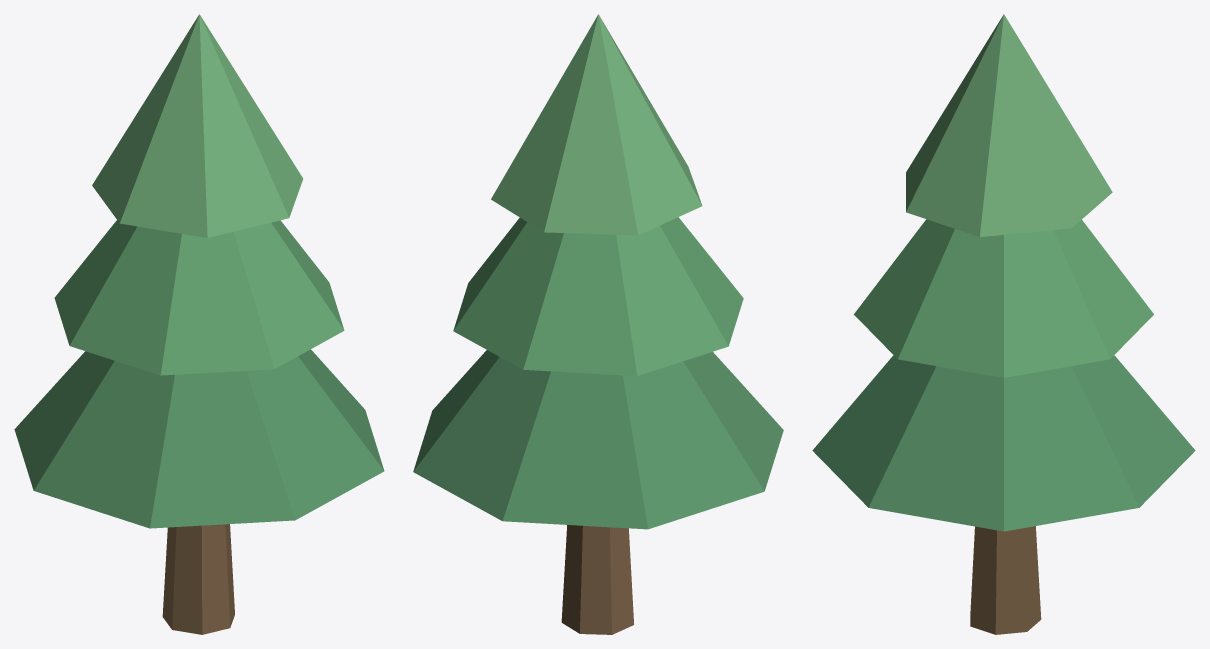
The model's file is TreePine.glb.
3 views of the same model, side by side, from view 1: azimuth 30°, elevation 25°; view 2: azimuth 150°, elevation 25°; view 3: azimuth 270°, elevation 25° (orthographic).
Parts seen in each view (by area): view 1: TreePine; view 2: TreePine; view 3: TreePine.
Part boxes in pixels (x1,y1,x2,y2): TreePine: (14,14,384,634); TreePine: (413,14,783,634); TreePine: (812,14,1195,634).
Bounding box in the file's own units: 3.7 × 6.45 × 3.7.
